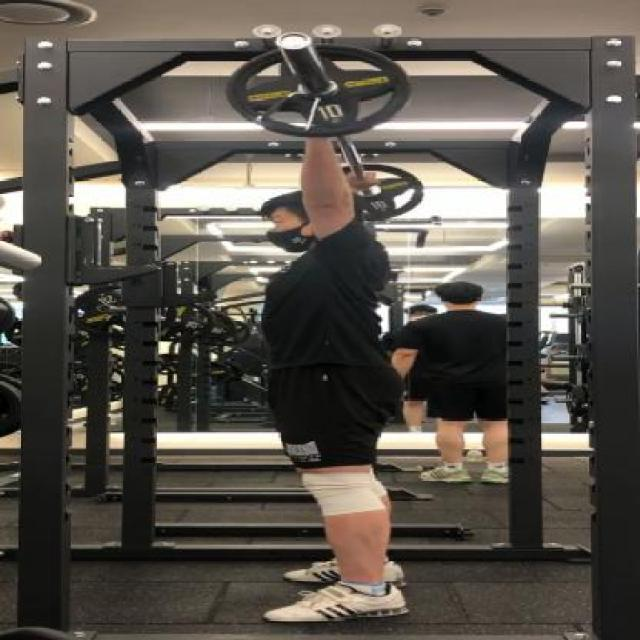barbell: (208, 36, 426, 143)
